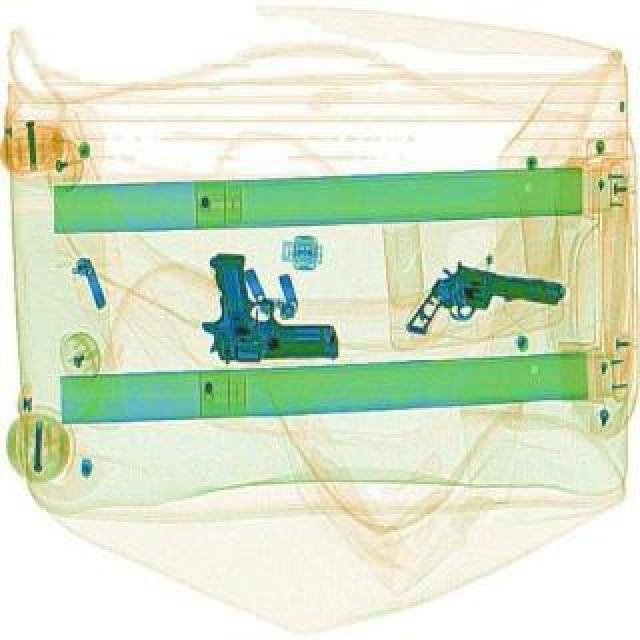gun: (402, 258, 568, 362), (196, 252, 340, 370)
